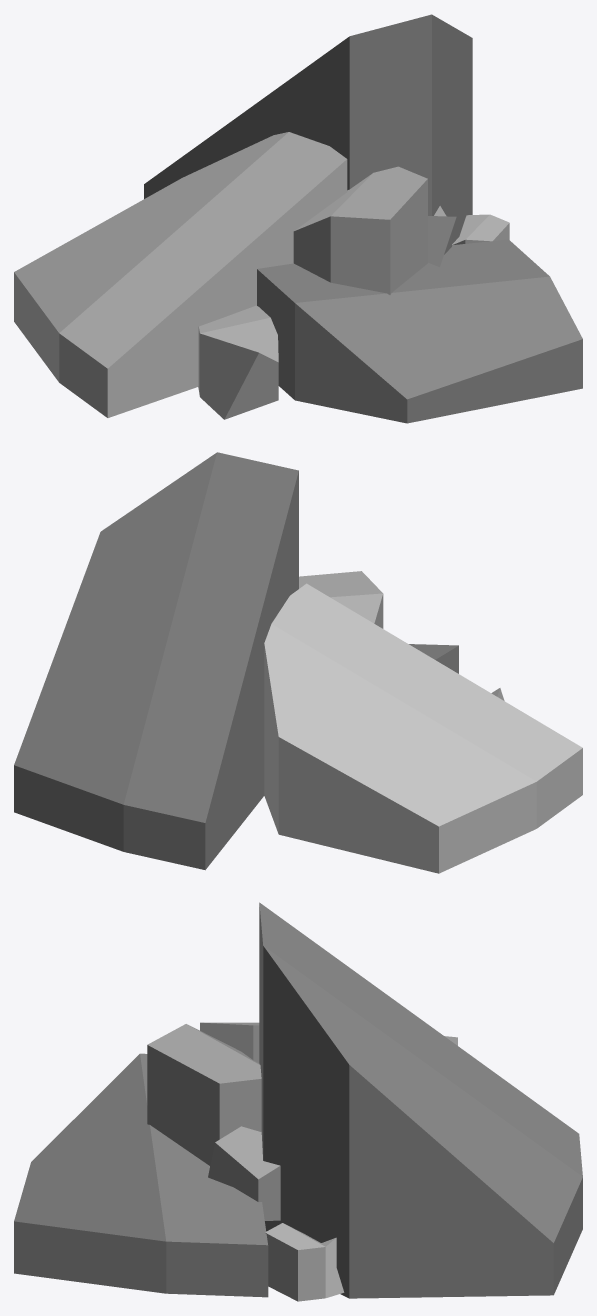
The model's file is rock-type5-02-grey.glb.
The picture shows the model from 3 angles, top to bottom: view 1: azimuth 30°, elevation 25°; view 2: azimuth 150°, elevation 25°; view 3: azimuth 270°, elevation 25°; orthographic projection. The views are drawn at different scales.
Visible parts, largest first — view 1: Rock_Type5_02_mesh; view 2: Rock_Type5_02_mesh; view 3: Rock_Type5_02_mesh.
Boxes of the visible parts, <box> form: Rock_Type5_02_mesh: <box>14,14,582,423</box>; Rock_Type5_02_mesh: <box>14,452,582,873</box>; Rock_Type5_02_mesh: <box>14,902,582,1301</box>.
Bounding box in the file's own units: 2.26 × 1.44 × 2.36.
1 material, 1 textured.
